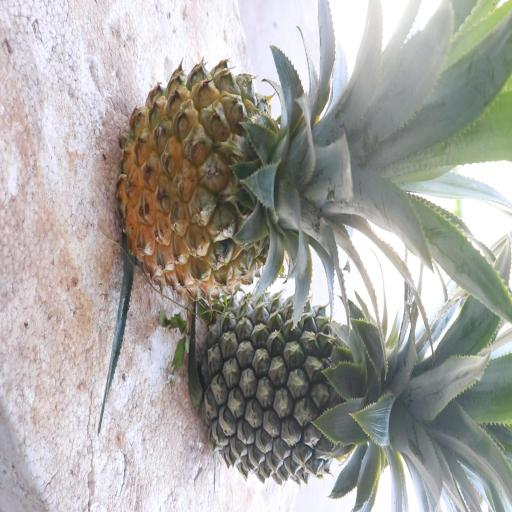Pineapple - v8 v1: (117, 64, 388, 296)
